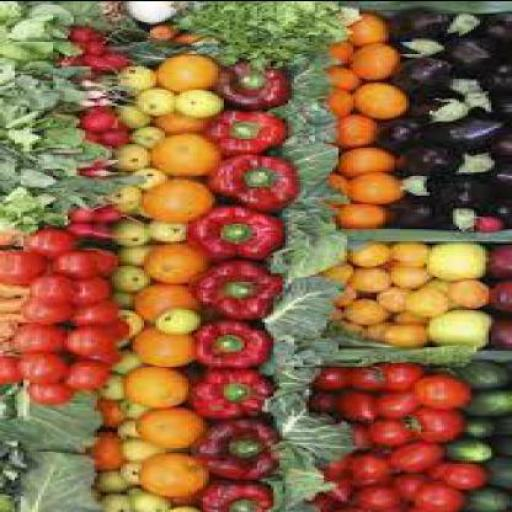biodegradable: (0, 1, 510, 510), (0, 18, 68, 229), (171, 1, 355, 65), (256, 388, 356, 462), (0, 383, 97, 450), (0, 446, 91, 510), (189, 256, 282, 316), (270, 200, 344, 274), (188, 418, 274, 477), (186, 202, 279, 256), (206, 150, 292, 207), (262, 439, 330, 511), (259, 277, 338, 337), (185, 365, 268, 417), (200, 106, 282, 154), (256, 336, 332, 384), (191, 318, 268, 365), (212, 56, 286, 103), (329, 344, 477, 366), (135, 449, 206, 493), (144, 129, 215, 173), (268, 97, 329, 148), (138, 176, 212, 218), (274, 130, 338, 178), (56, 173, 150, 205), (321, 450, 382, 498), (418, 112, 509, 144), (191, 475, 274, 510), (132, 406, 200, 447), (439, 34, 503, 76), (130, 323, 194, 364), (142, 240, 203, 281), (448, 174, 506, 216), (124, 362, 182, 404), (130, 282, 194, 320), (0, 0, 103, 22), (350, 79, 406, 119), (152, 51, 212, 88), (424, 308, 488, 342), (401, 404, 462, 438), (427, 240, 483, 277), (412, 371, 470, 406), (349, 360, 421, 388), (347, 167, 404, 202), (406, 478, 465, 510), (392, 199, 456, 228), (403, 53, 450, 92), (282, 59, 327, 99), (18, 224, 82, 252), (350, 40, 397, 78), (394, 142, 454, 171), (447, 8, 509, 36), (432, 456, 486, 488), (445, 358, 509, 385), (386, 438, 435, 472), (0, 247, 44, 284), (336, 145, 394, 173), (47, 247, 106, 274), (391, 7, 447, 35), (59, 354, 108, 386), (347, 484, 406, 510), (450, 64, 509, 90), (400, 278, 444, 312), (406, 95, 465, 120), (336, 110, 378, 145), (94, 182, 139, 214), (347, 6, 389, 40), (332, 201, 389, 226), (391, 201, 447, 226), (398, 169, 446, 198), (460, 386, 509, 414), (368, 388, 415, 417), (129, 83, 174, 113), (366, 416, 414, 444), (18, 293, 67, 320), (65, 323, 109, 353), (64, 297, 118, 321), (294, 175, 347, 199), (173, 87, 218, 115), (342, 295, 388, 322), (342, 238, 388, 265), (465, 482, 509, 510), (24, 272, 71, 298), (332, 388, 370, 420), (88, 427, 118, 467), (47, 139, 106, 159), (444, 276, 486, 304), (153, 306, 198, 332), (150, 110, 203, 132), (382, 262, 430, 286), (123, 1, 180, 21), (24, 380, 71, 404), (344, 422, 382, 451), (306, 359, 344, 388), (115, 61, 153, 90), (76, 102, 114, 131), (344, 263, 388, 288), (144, 215, 188, 240), (117, 435, 162, 459), (91, 463, 129, 491), (112, 100, 150, 128), (462, 88, 509, 110), (106, 263, 144, 290), (106, 141, 144, 168), (106, 217, 141, 246), (123, 486, 165, 510), (65, 222, 126, 238), (450, 436, 492, 459), (378, 320, 426, 340), (485, 238, 509, 278), (71, 272, 105, 300), (392, 471, 430, 496), (380, 118, 418, 143), (79, 50, 124, 71), (388, 240, 430, 262), (123, 163, 165, 185), (453, 147, 491, 171), (304, 386, 336, 414), (482, 454, 510, 484), (485, 311, 509, 346), (124, 124, 162, 146), (80, 76, 112, 102), (485, 277, 509, 311), (482, 194, 510, 223), (371, 284, 403, 309), (68, 203, 118, 219), (418, 457, 456, 478), (482, 130, 510, 158), (64, 21, 102, 41), (397, 36, 441, 53), (112, 242, 142, 266), (94, 372, 124, 396), (112, 309, 138, 336), (324, 171, 344, 206), (94, 489, 126, 510), (76, 346, 118, 362), (468, 210, 503, 229), (327, 85, 350, 113), (109, 348, 141, 368), (327, 66, 356, 88), (482, 156, 510, 178), (336, 314, 370, 332), (321, 260, 350, 280), (115, 398, 150, 414), (324, 39, 347, 63), (92, 396, 111, 425), (459, 416, 491, 432), (314, 493, 342, 510), (100, 126, 129, 142), (109, 286, 132, 306), (118, 455, 136, 480), (448, 204, 468, 226), (485, 434, 509, 450), (356, 322, 380, 338), (333, 283, 353, 302), (79, 37, 103, 52), (492, 414, 509, 434), (73, 165, 115, 173), (115, 419, 132, 438), (106, 316, 123, 335), (80, 126, 100, 142), (158, 503, 200, 510), (165, 494, 194, 504), (147, 23, 171, 35), (171, 28, 191, 41), (86, 156, 115, 164), (53, 54, 76, 64), (106, 334, 120, 344)
